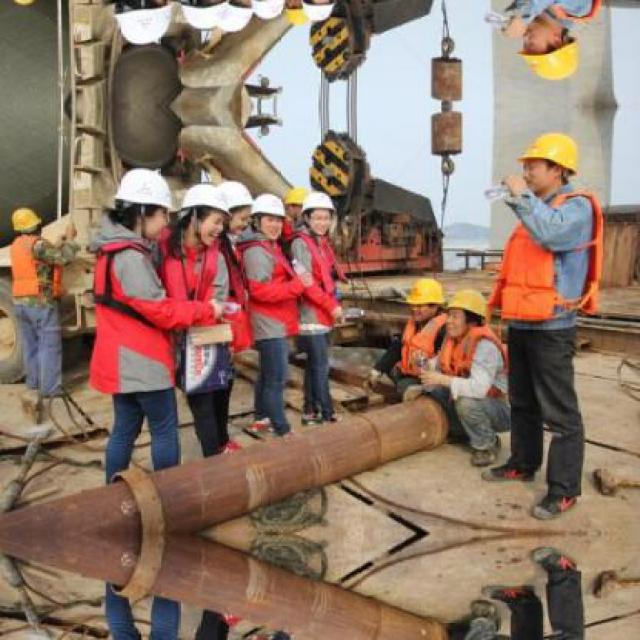helmet: (112, 164, 177, 242), (513, 128, 582, 196), (513, 16, 582, 84), (180, 180, 234, 243), (112, 0, 178, 49), (211, 177, 251, 232), (445, 289, 490, 336), (405, 273, 447, 321), (179, 0, 235, 32), (298, 190, 336, 234), (250, 191, 285, 236), (8, 203, 47, 243), (211, 0, 252, 37), (298, 0, 337, 23), (249, 0, 286, 22), (8, 0, 48, 11)
